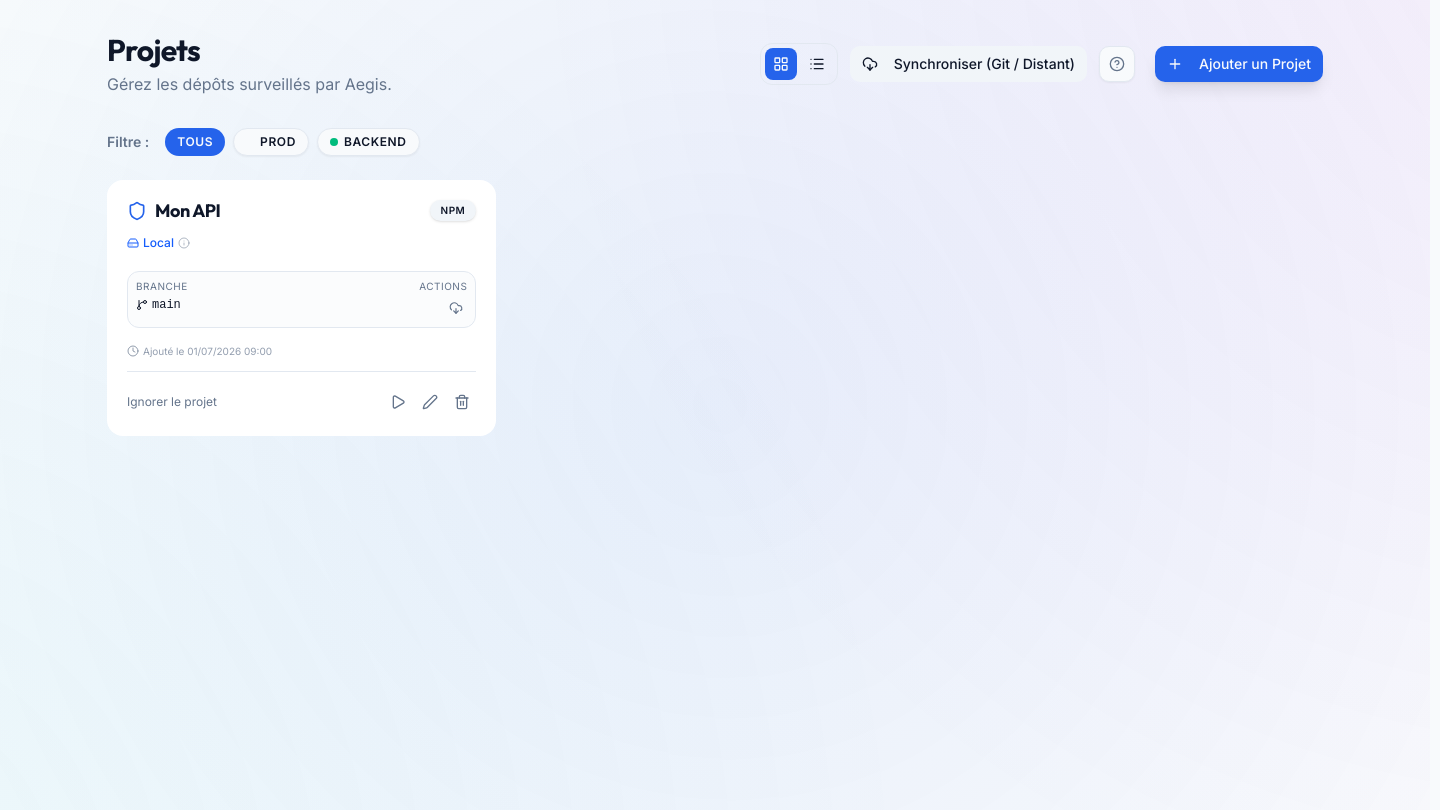
Test case: Projects › la progression est affichée, non modale, et annulable
Expected: the heading "Mon API" is shown, [155,200,220,222]
Click the button "Synchroniser (Git / Distant)": (968, 64) [850,46,1087,82]
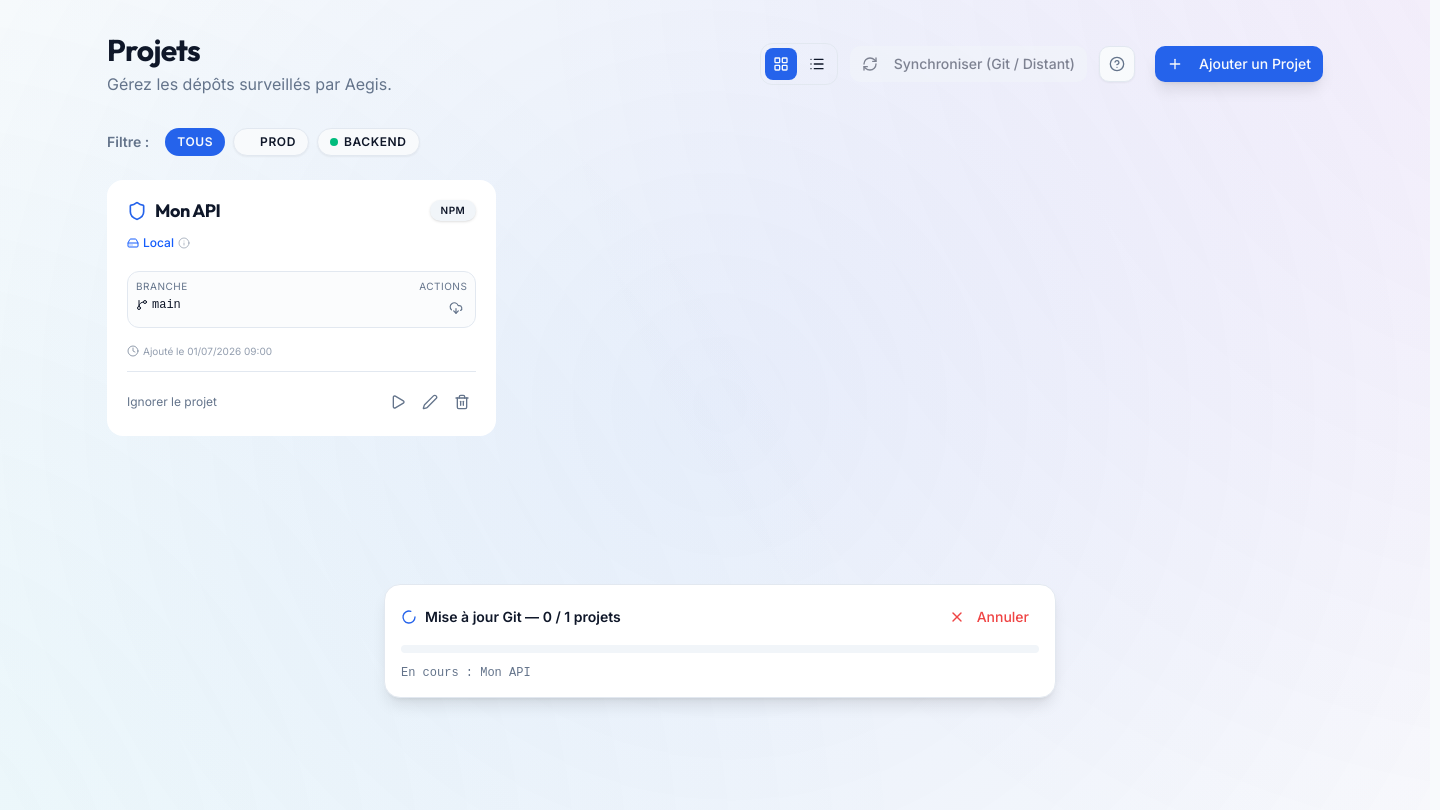
Expected: the text "Mise à jour Git — 0 / 1 projets" is shown, [401,607,621,627]
Expected: the button "Annuler" is shown, [939,601,1039,633]
